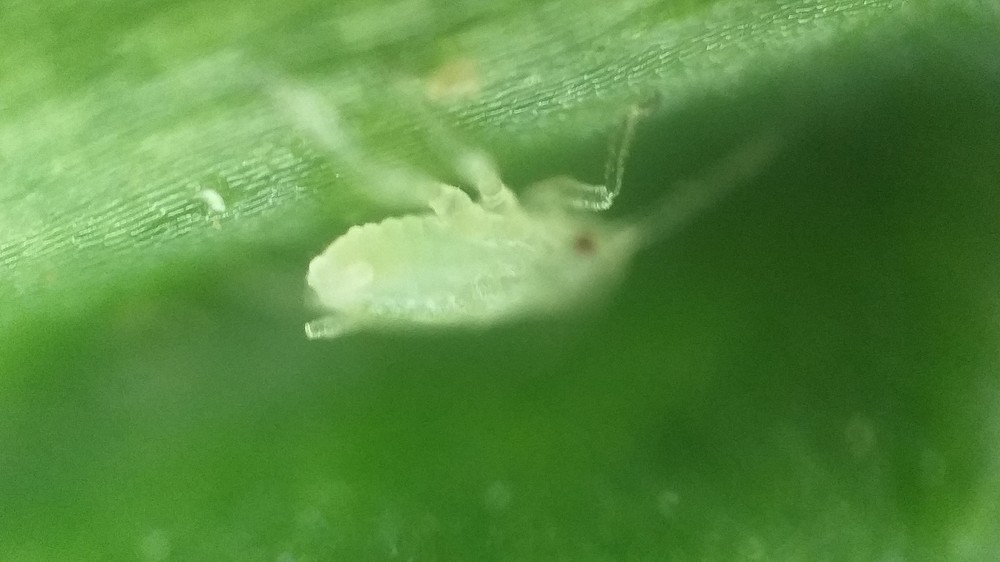Pulgon: (228, 60, 787, 380)
